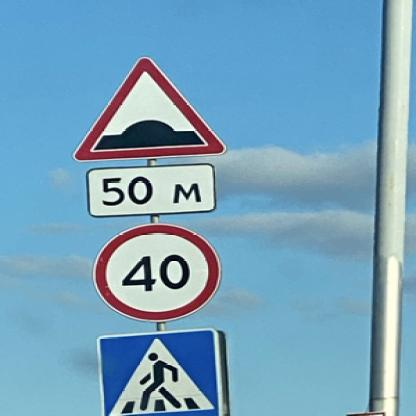Speed Limit 40: (100, 222, 220, 321)
